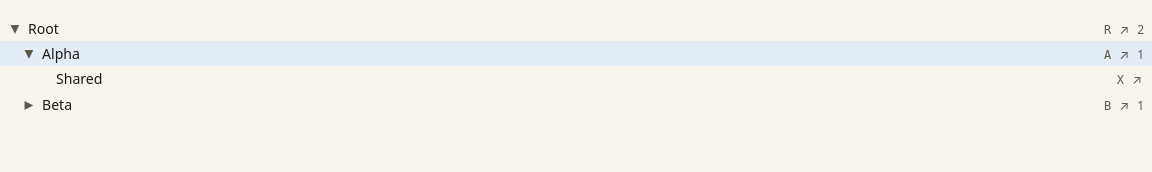
Test: TermTree › shows the id without a link where no page is known
Click the text with class "tree-toggle" showing "▸".
click(29, 103)  # box [25, 91, 33, 115]
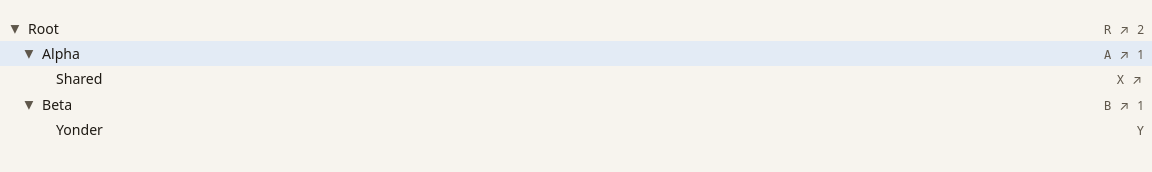
Result: the text with class "tree-id" reads "Y" at [1137, 124, 1144, 138]
